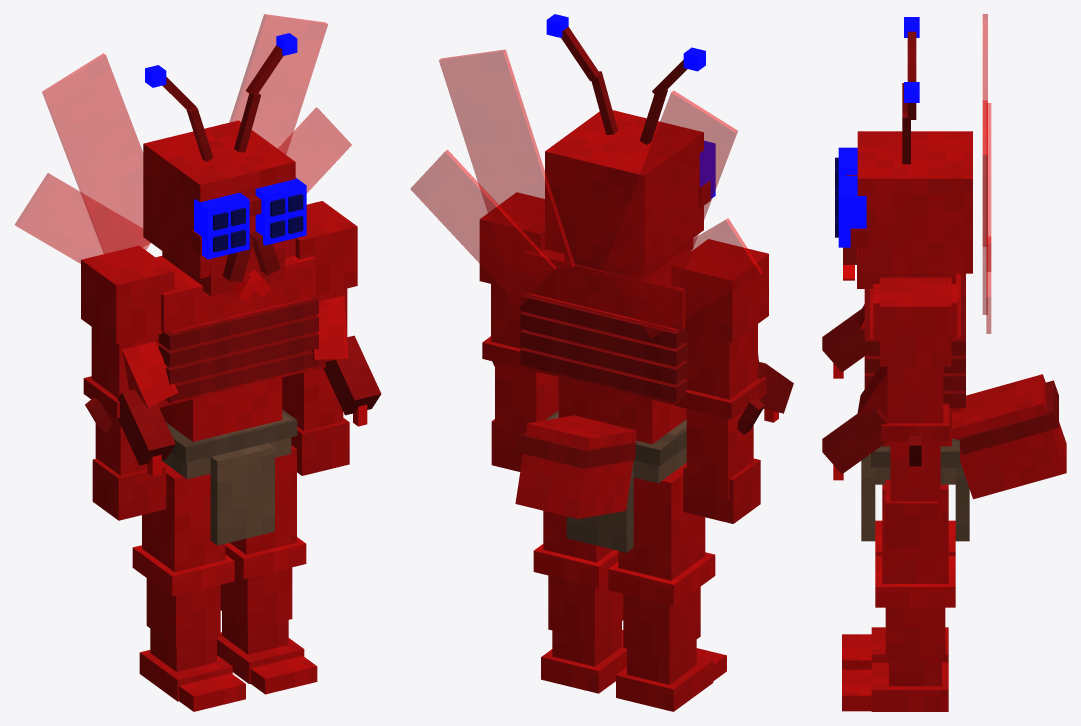
The model's file is insectoid_s2.glb.
3 renders of one model, left to right at view 1: azimuth 30°, elevation 25°; view 2: azimuth 150°, elevation 25°; view 3: azimuth 270°, elevation 25°, orthographic. The views are drawn at different scales.
Parts seen in each view (by area): view 1: Torso, Head, LegR, ArmR, LegL, ArmL; view 2: Torso, Head, ArmR, LegR, ArmL, LegL; view 3: Torso, Head, ArmL, LegL, LegR.
Boxes of the visible parts, x1,y1,x2,y2 form: Torso: (15, 14, 381, 545); Head: (143, 33, 306, 300); LegR: (132, 461, 245, 711); ArmR: (81, 245, 174, 520); LegL: (217, 445, 317, 694); ArmL: (282, 201, 357, 475); Torso: (410, 49, 793, 552); Head: (545, 14, 715, 280); ArmR: (671, 239, 768, 523); LegR: (608, 463, 726, 711); ArmL: (479, 192, 558, 471); LegL: (533, 511, 626, 693); Torso: (822, 14, 1066, 541); Head: (835, 17, 972, 288); ArmL: (879, 277, 951, 546); LegL: (842, 484, 955, 711); LegR: (842, 520, 955, 669).
Size of the model in its own units: 1.12 by 1.98 by 0.699.
21 materials, 21 textured.
